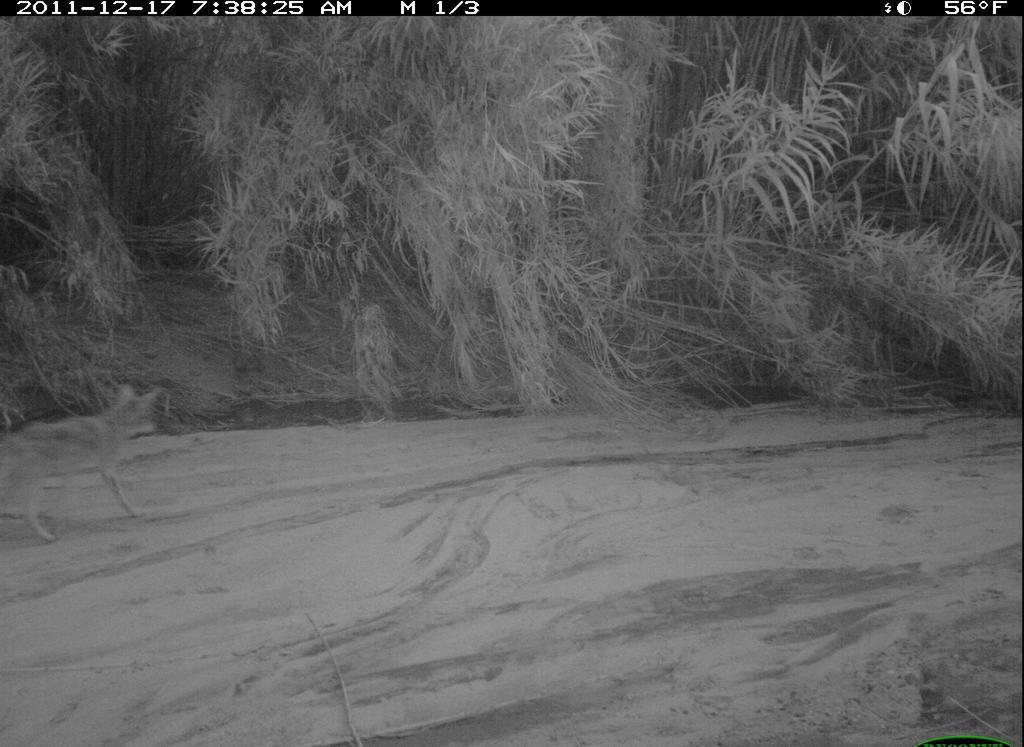coyote: (2, 378, 172, 556)
